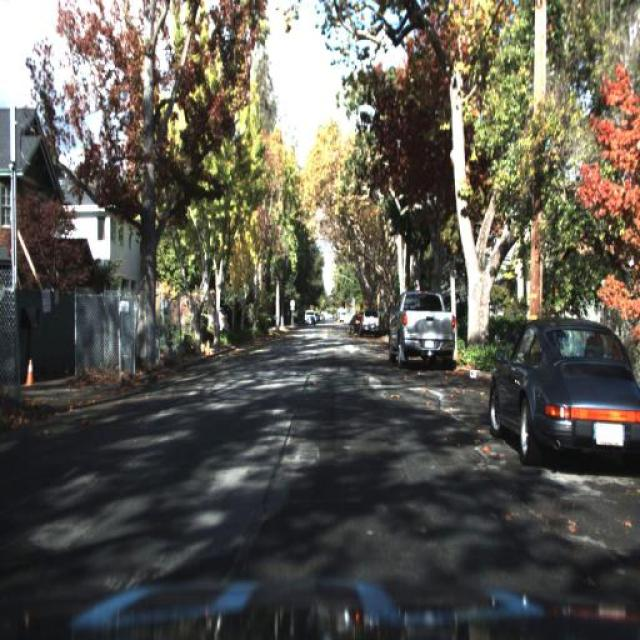car: (485, 298, 639, 483), (488, 310, 640, 494), (384, 281, 461, 380), (386, 288, 459, 362), (359, 302, 381, 338), (358, 306, 381, 338), (348, 312, 363, 332)
